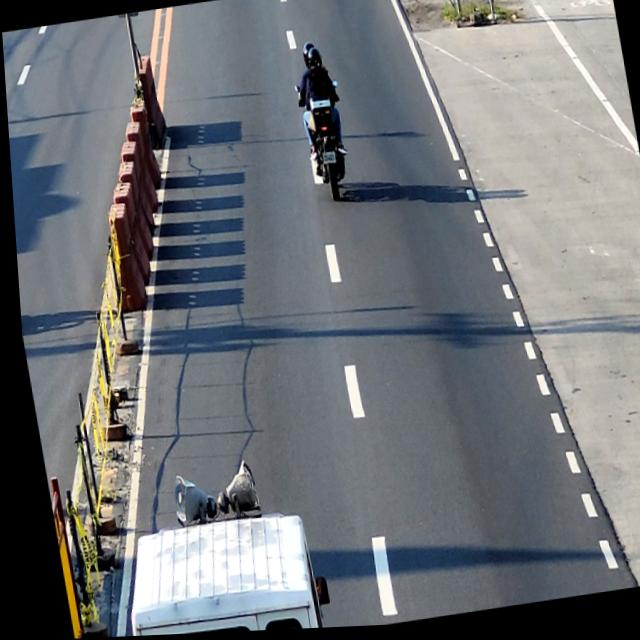Car: (107, 505, 325, 637)
License-Plate: (319, 154, 334, 167)
Motorcycle: (292, 79, 354, 206)
